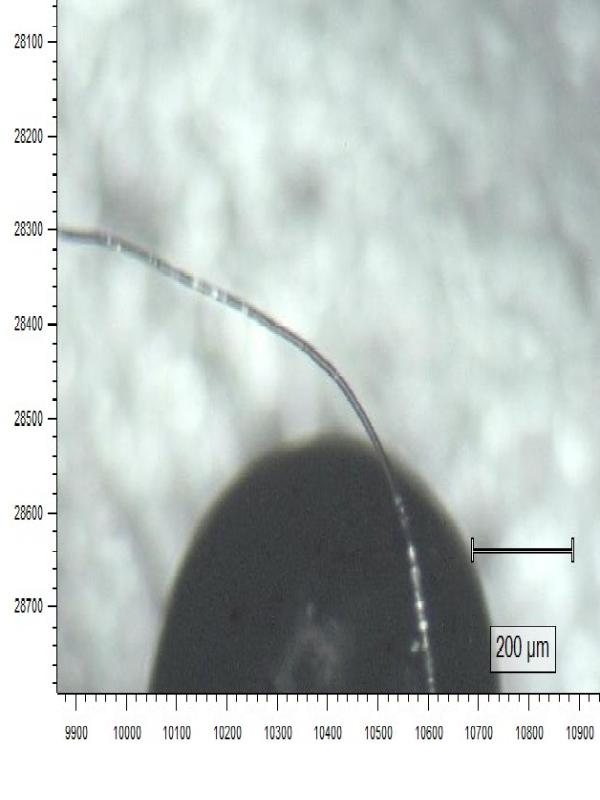microplastic: (57, 216, 440, 693)
